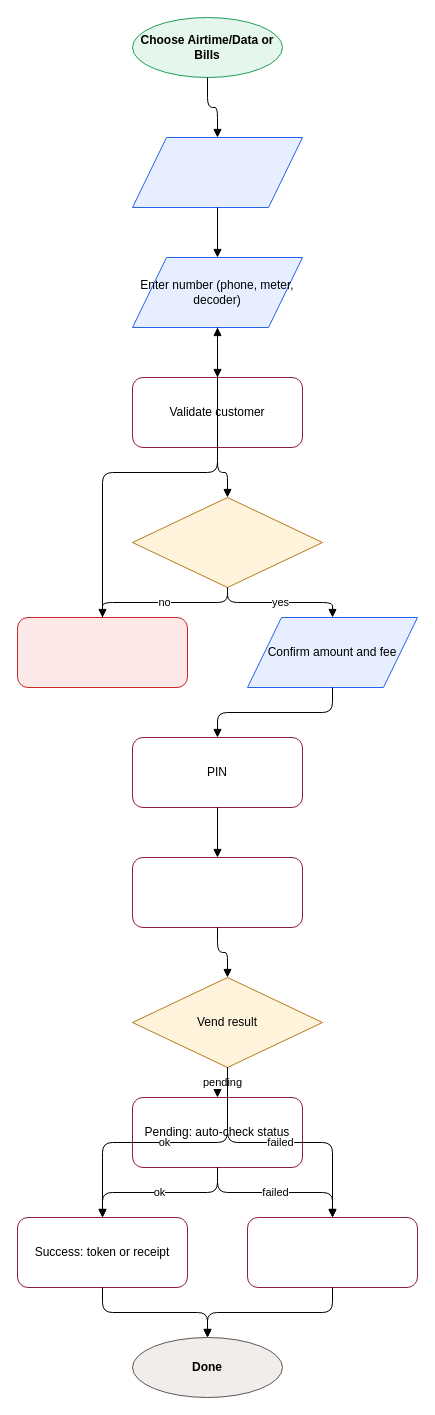
Some shapes in this 435 by 1415 pixel diagram are drawn without their labels. Each missing label, with the centre of its shape:
Failed: automatic refund and notify: (x=332, y=1252)
Select network or biller and package: (x=217, y=172)
Show error; re-enter: (x=102, y=652)
Submit purchase with idempotency key: (x=217, y=892)
Valid?: (x=227, y=542)
